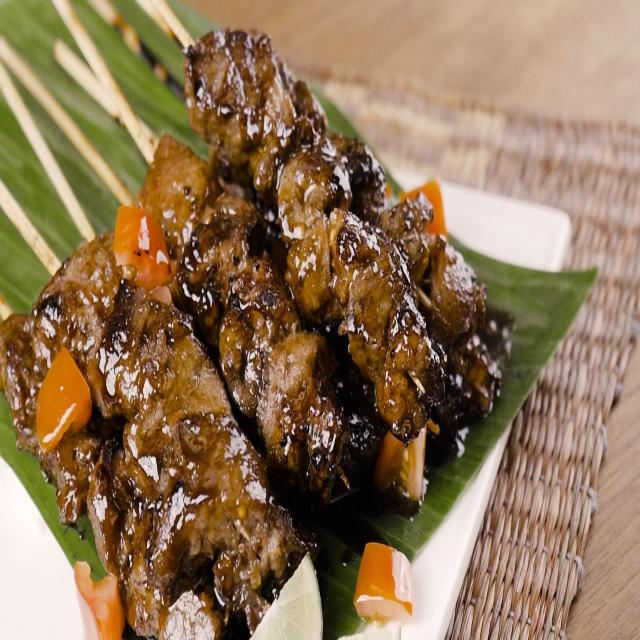Sate: (5, 4, 455, 554)
